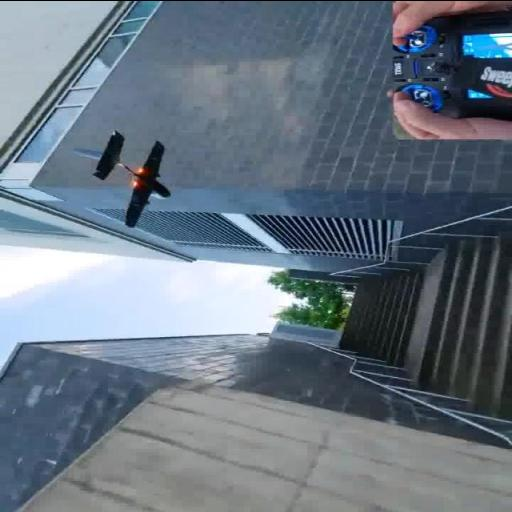uav: (65, 120, 185, 230)
